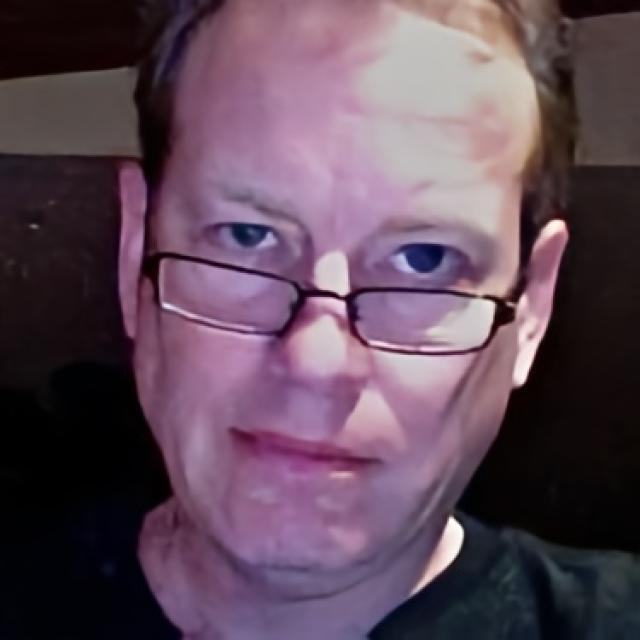content: (136, 0, 520, 592)
